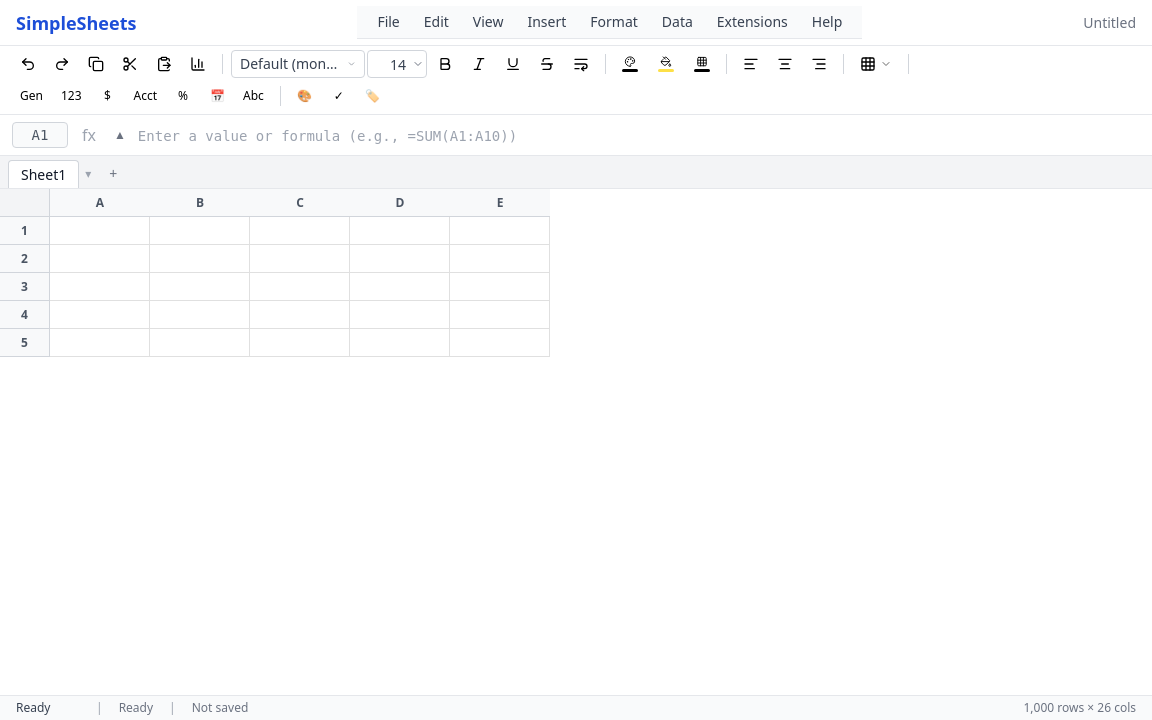
Test: App › opens View menu and shows Freeze/Unfreeze items
This screenshot has width=1152, height=720.
Click the button "View".
click(488, 22)  # box [461,8,515,36]
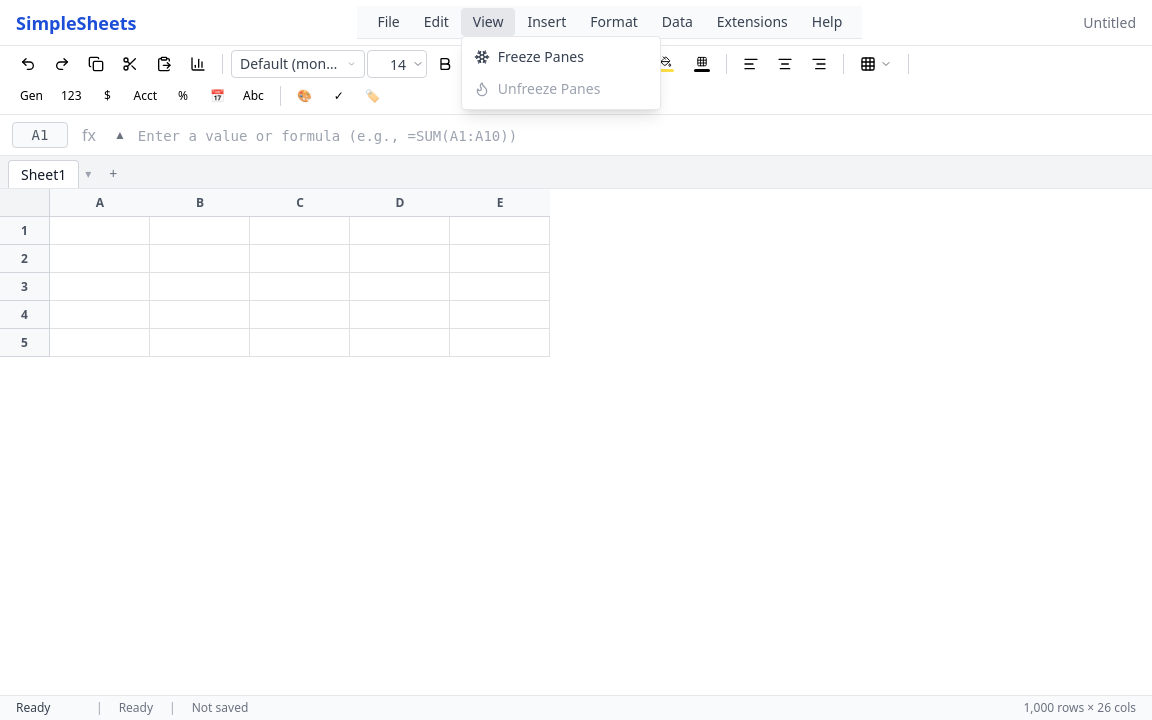
Check: the text "Freeze Panes" is shown, box [498,47,584,66]
Check: the text "Unfreeze Panes" is shown, box [498,79,600,98]
